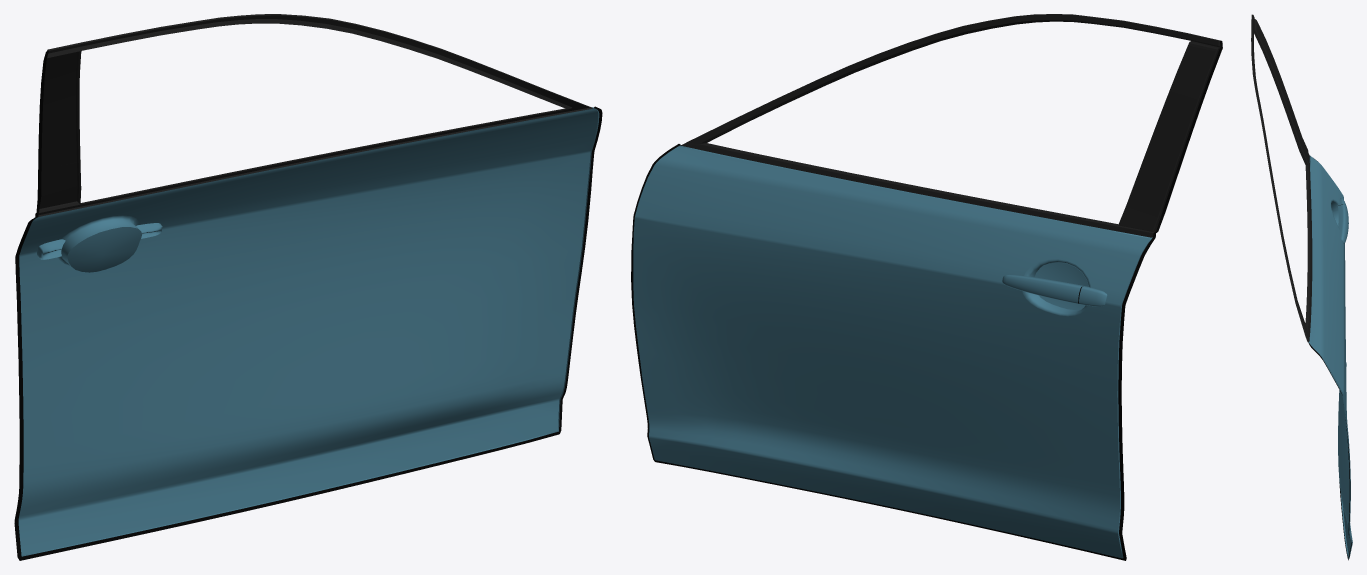
3 renders of one model, left to right at view 1: azimuth 30°, elevation 25°; view 2: azimuth 150°, elevation 25°; view 3: azimuth 270°, elevation 25°, orthographic. The views are drawn at different scales.
Parts seen in each view (by area): view 1: Y175_18_261B_L_1_DaS_Y175_18_261B_L, Y175_18_261B_L_Y175_18_261B_L_2_D, Y175_18_261B_L_Y175_18_261B_L_3_D, Y175_18_261B_L_1_DaS_Y175_18_261B_L_E; view 2: Y175_18_261B_L_1_DaS_Y175_18_261B_L, Y175_18_261B_L_Y175_18_261B_L_2_D, Y175_18_261B_L_Y175_18_261B_L_3_D, Y175_18_261B_L_1_DaS_Y175_18_261B_L_E; view 3: Y175_18_261B_L_1_DaS_Y175_18_261B_L, Y175_18_261B_L_Y175_18_261B_L_2_D, Y175_18_261B_L_1_DaS_Y175_18_261B_L_E, Y175_18_261B_L_Y175_18_261B_L_3_D.
Boxes of the visible parts, box(x1,y1,x2,y2) form: Y175_18_261B_L_1_DaS_Y175_18_261B_L: box(18, 108, 598, 555); Y175_18_261B_L_Y175_18_261B_L_2_D: box(38, 14, 592, 216); Y175_18_261B_L_Y175_18_261B_L_3_D: box(14, 51, 602, 560); Y175_18_261B_L_1_DaS_Y175_18_261B_L_E: box(21, 107, 599, 556); Y175_18_261B_L_1_DaS_Y175_18_261B_L: box(633, 146, 1150, 558); Y175_18_261B_L_Y175_18_261B_L_2_D: box(681, 14, 1220, 237); Y175_18_261B_L_Y175_18_261B_L_3_D: box(631, 40, 1222, 560); Y175_18_261B_L_1_DaS_Y175_18_261B_L_E: box(679, 145, 1152, 557); Y175_18_261B_L_1_DaS_Y175_18_261B_L: box(1310, 156, 1352, 554); Y175_18_261B_L_Y175_18_261B_L_2_D: box(1251, 14, 1312, 341); Y175_18_261B_L_1_DaS_Y175_18_261B_L_E: box(1308, 156, 1352, 558); Y175_18_261B_L_Y175_18_261B_L_3_D: box(1308, 159, 1351, 560).
Bounding box in the file's own units: 130 × 117 × 29.36.
